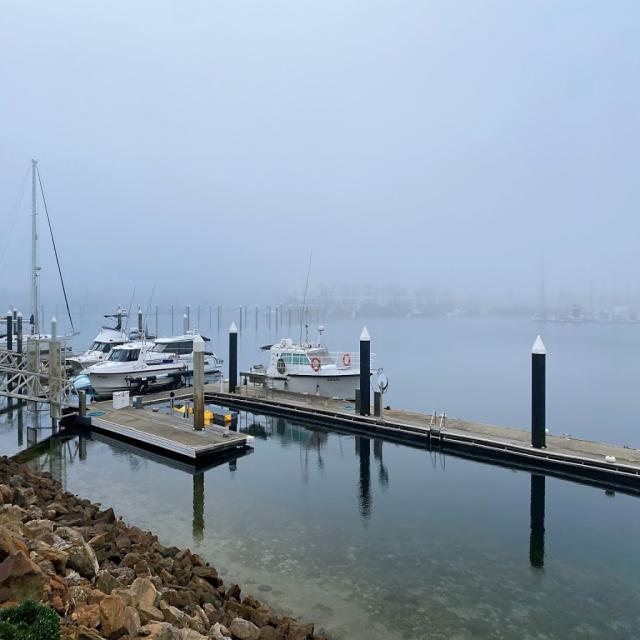houseboat: (275, 324, 375, 384), (91, 327, 200, 378), (102, 343, 180, 391)
